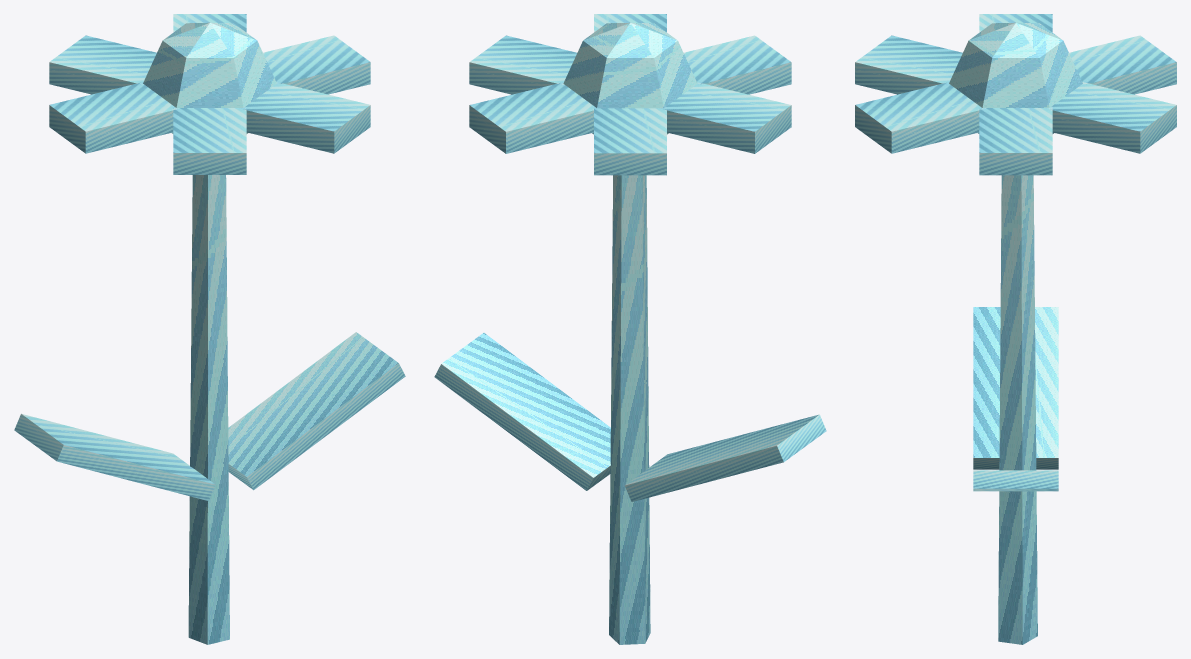
The model's file is flor_de_gelo.glb.
The picture shows the model from 3 angles, left to right: view 1: azimuth 30°, elevation 25°; view 2: azimuth 150°, elevation 25°; view 3: azimuth 270°, elevation 25°; orthographic projection.
Visible parts, largest first — view 1: flor_de_gelo; view 2: flor_de_gelo; view 3: flor_de_gelo.
Part boxes in pixels (left/top/right/bottom): flor_de_gelo: left=14, top=14, right=405, bottom=644; flor_de_gelo: left=434, top=14, right=826, bottom=644; flor_de_gelo: left=855, top=14, right=1176, bottom=644.
Bounding box in the file's own units: 0.3306 × 0.555 × 0.2638.
Materials: 1 (1 with a texture image).
